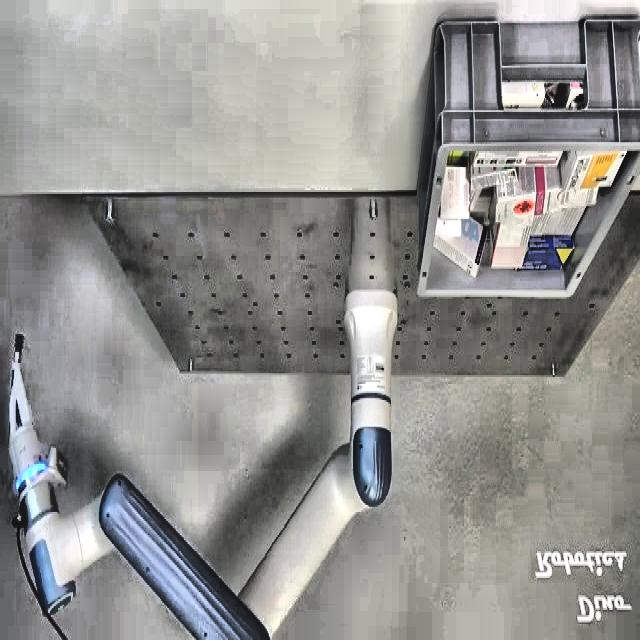robot: (7, 290, 398, 640)
